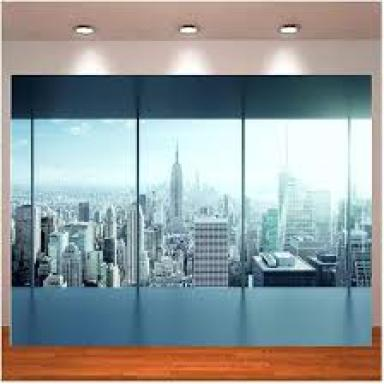glass_panel: (141, 121, 240, 287), (36, 121, 135, 285), (247, 121, 346, 278), (348, 119, 372, 285), (10, 121, 31, 285)
